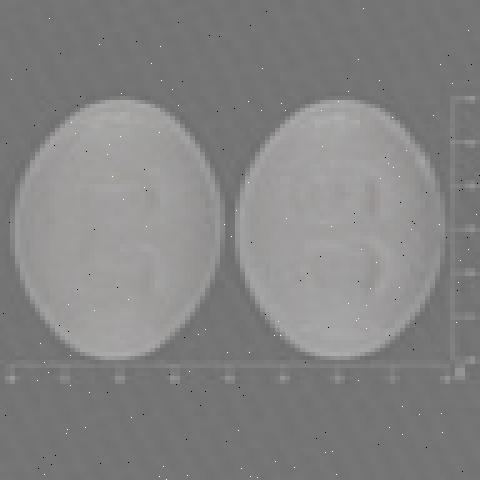Pill: (234, 76, 463, 388), (3, 76, 228, 390)
